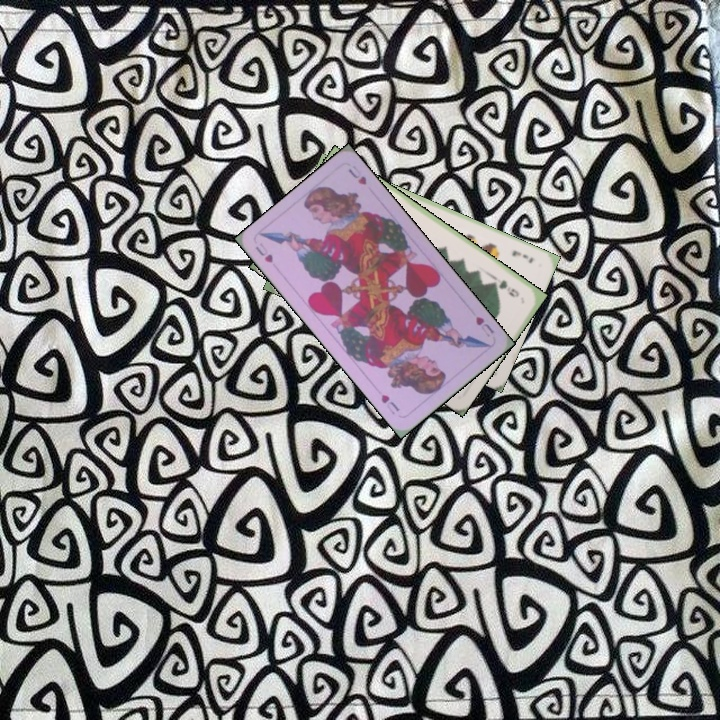E7: (508, 246, 536, 266)
G9: (495, 276, 522, 300)
HU: (471, 312, 497, 339), (251, 239, 276, 266)
